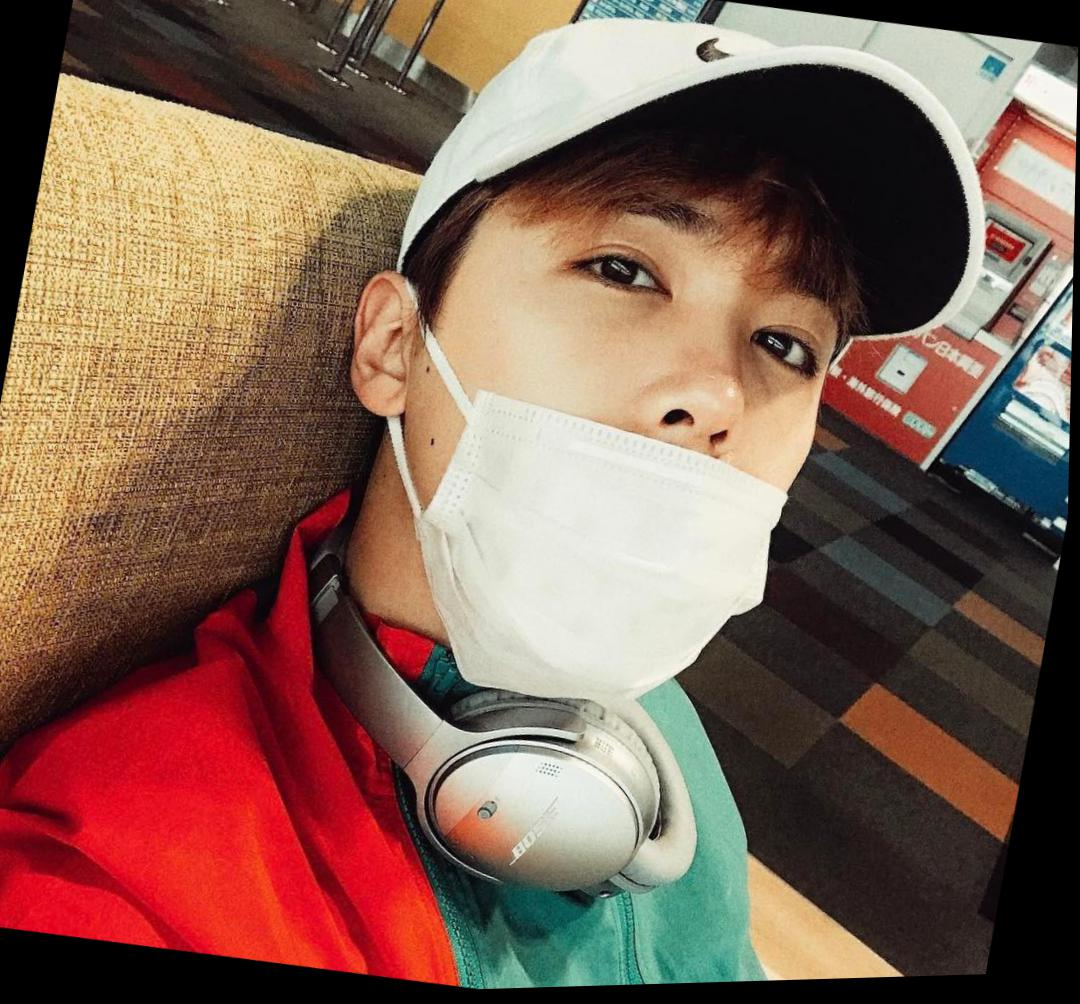WRONG: (383, 141, 895, 720)
